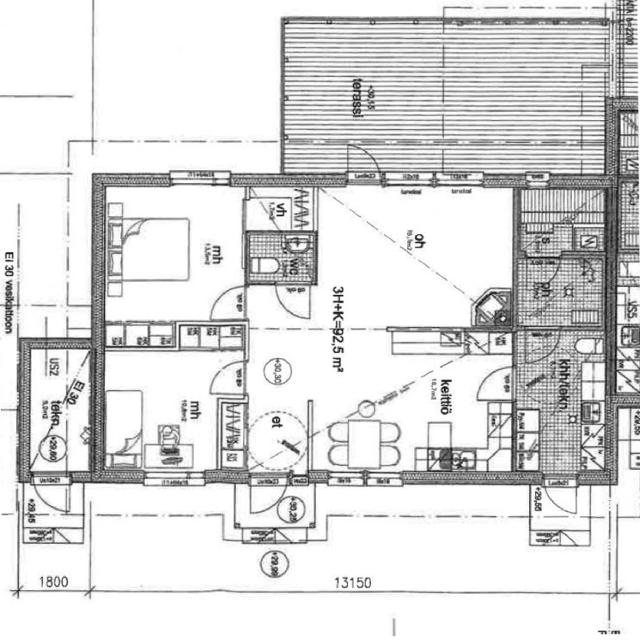door: (341, 136, 384, 188), (538, 472, 582, 520), (472, 360, 519, 404), (246, 471, 289, 518), (30, 473, 74, 516), (272, 281, 316, 323), (205, 282, 251, 322), (206, 356, 248, 399), (529, 325, 563, 360)
window: (386, 323, 464, 348), (140, 469, 204, 492), (166, 168, 232, 190), (384, 172, 436, 190), (363, 468, 406, 489), (323, 470, 368, 488), (434, 176, 484, 192), (183, 466, 210, 488)
zone: (308, 331, 518, 479), (314, 185, 518, 331), (101, 185, 247, 322), (98, 347, 240, 477), (513, 332, 608, 475), (10, 171, 88, 344), (17, 339, 97, 474), (518, 179, 614, 256), (512, 252, 610, 327), (244, 230, 317, 285), (243, 184, 313, 232), (166, 168, 233, 190)
